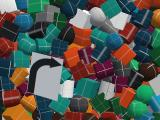Right: (26, 52, 64, 101)
